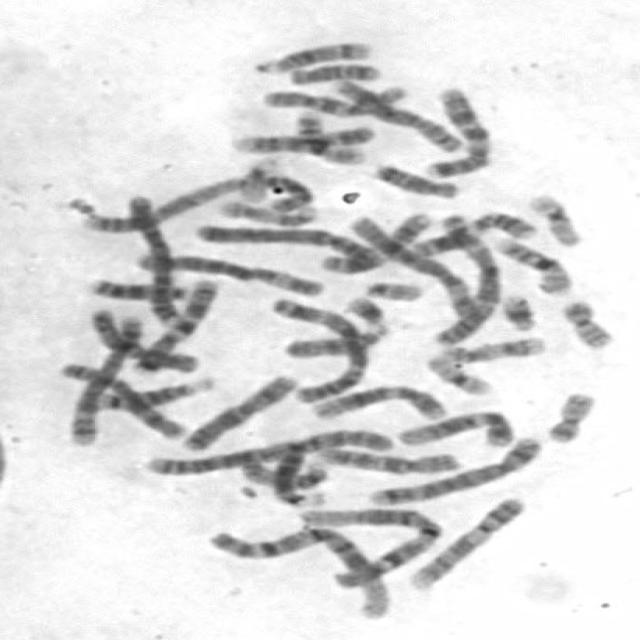A1: (201, 521, 397, 622), (294, 501, 450, 590)
A2: (68, 169, 321, 236), (136, 424, 400, 478)
A3: (263, 291, 374, 404), (428, 210, 506, 348)
B4: (187, 218, 386, 269), (116, 189, 186, 330)
B5: (361, 431, 547, 506), (59, 310, 148, 449)
C10: (255, 78, 413, 118), (307, 442, 464, 476)
C11: (313, 207, 436, 275), (402, 206, 540, 259)
C12: (304, 379, 450, 422), (391, 404, 518, 449)
C6: (344, 210, 484, 317), (128, 247, 330, 299)
C7: (125, 274, 222, 376), (417, 82, 497, 179)
C8: (52, 356, 188, 442), (326, 73, 467, 154)
C9: (403, 491, 531, 591), (227, 120, 383, 155)
D13: (260, 437, 329, 508), (81, 273, 192, 303)
D14: (84, 371, 217, 412), (248, 35, 375, 77)
D15: (274, 319, 392, 360), (230, 454, 335, 490)
E16: (486, 231, 576, 296), (288, 106, 371, 166)
E17: (431, 331, 548, 364), (212, 195, 321, 228)
E18: (366, 158, 462, 200), (282, 58, 384, 86)
F19: (520, 188, 587, 248), (420, 350, 497, 398)
F20: (554, 294, 620, 351), (540, 385, 601, 445)
G21: (338, 290, 392, 330), (494, 289, 540, 333)
G22: (230, 151, 285, 203), (357, 275, 428, 303)
X: (174, 369, 300, 453)
